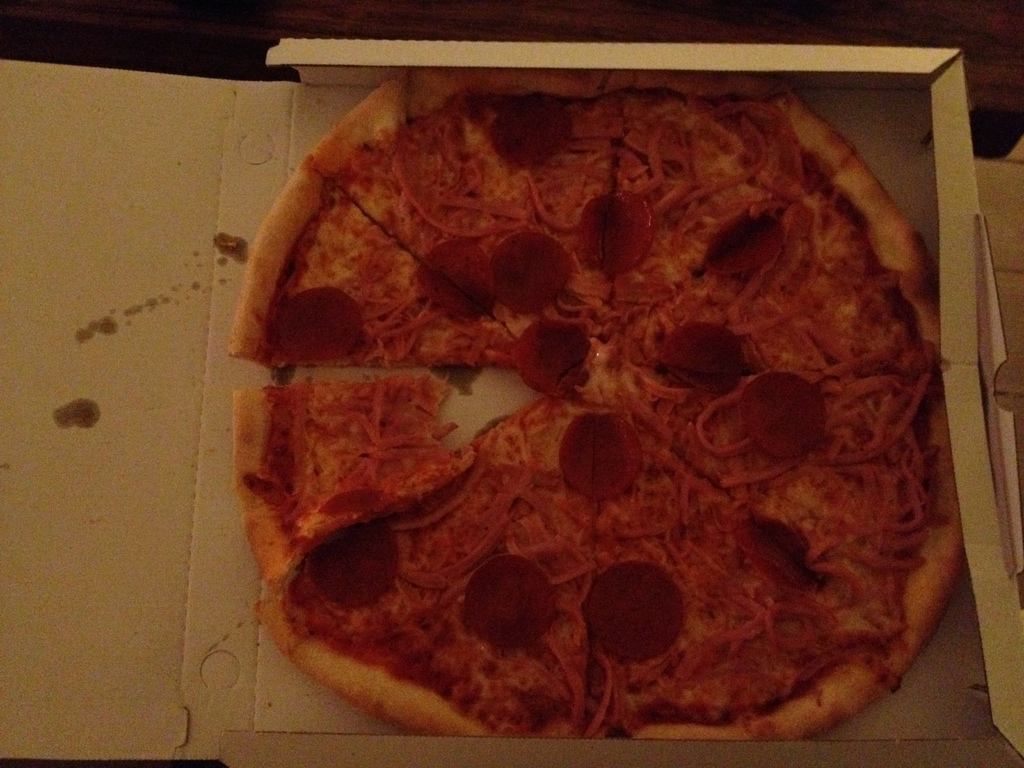Pizza: (218, 76, 979, 753)
